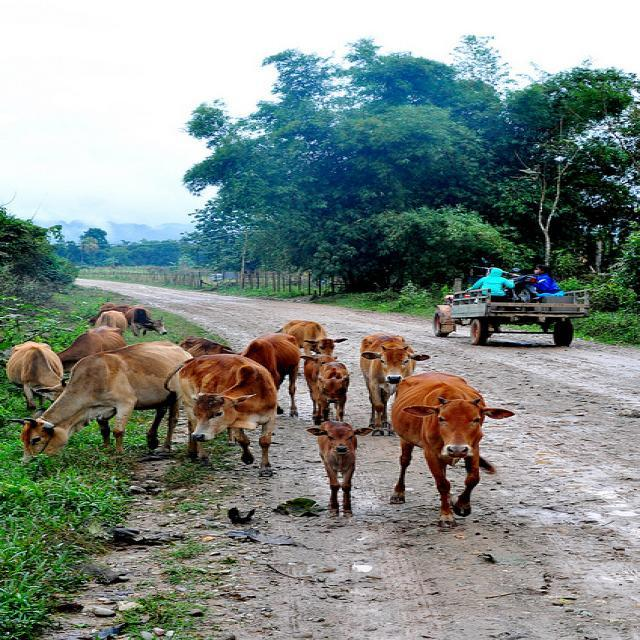cow: (0, 334, 190, 462), (384, 370, 515, 523), (175, 354, 271, 476), (303, 419, 374, 517), (359, 332, 427, 434), (222, 330, 299, 415), (3, 339, 66, 417), (56, 324, 124, 372), (297, 352, 337, 414), (279, 318, 347, 353), (312, 361, 346, 423), (94, 309, 124, 330)
